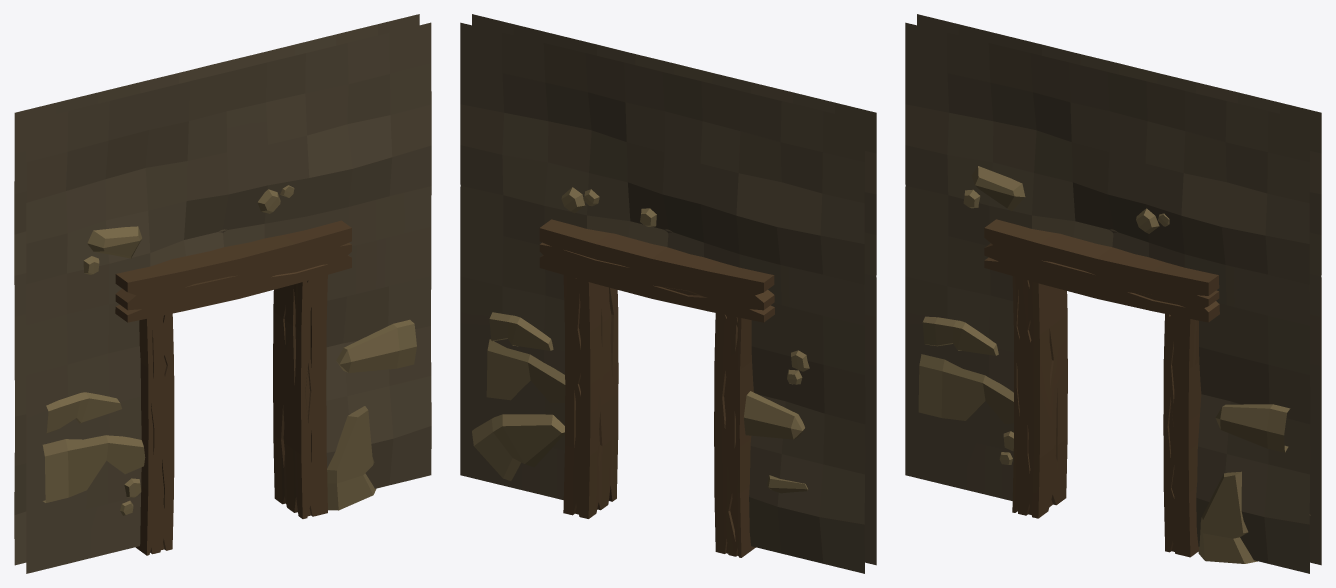
Rendered from Basement_Passage.glb.
The picture shows the model from 3 angles, left to right: view 1: azimuth 30°, elevation 25°; view 2: azimuth 150°, elevation 25°; view 3: azimuth 330°, elevation 25°; orthographic projection.
Parts seen in each view (by area): view 1: Basement_Passage; view 2: Basement_Passage; view 3: Basement_Passage.
Boxes of the visible parts, x1=… form: Basement_Passage: x1=14, y1=14, x2=431, y2=573; Basement_Passage: x1=460, y1=14, x2=876, y2=573; Basement_Passage: x1=905, y1=14, x2=1321, y2=573.
Size of the model in its own units: 4 by 4.35 by 0.5789.
3 materials, 3 textured.
